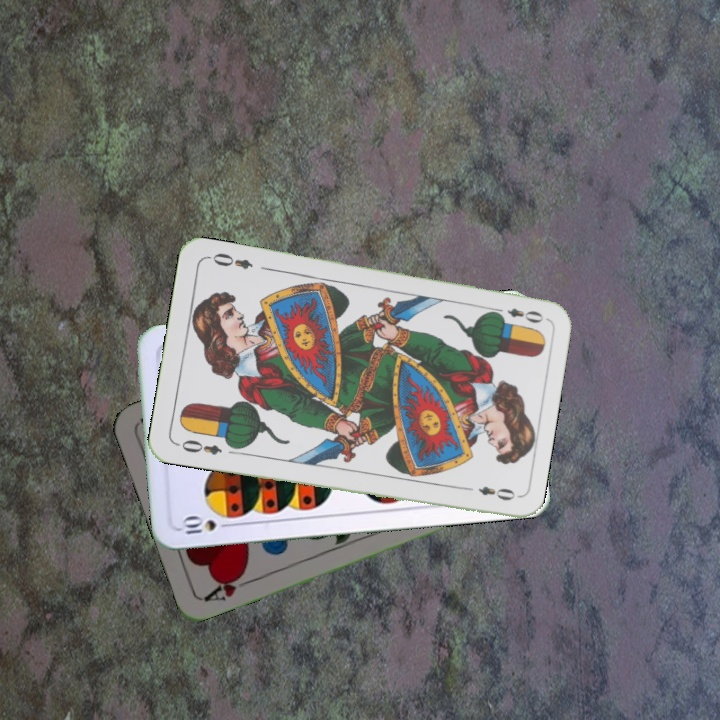EO: (488, 303, 546, 326), (172, 435, 225, 458)
HA: (200, 568, 257, 605)
S10: (176, 514, 235, 537)
